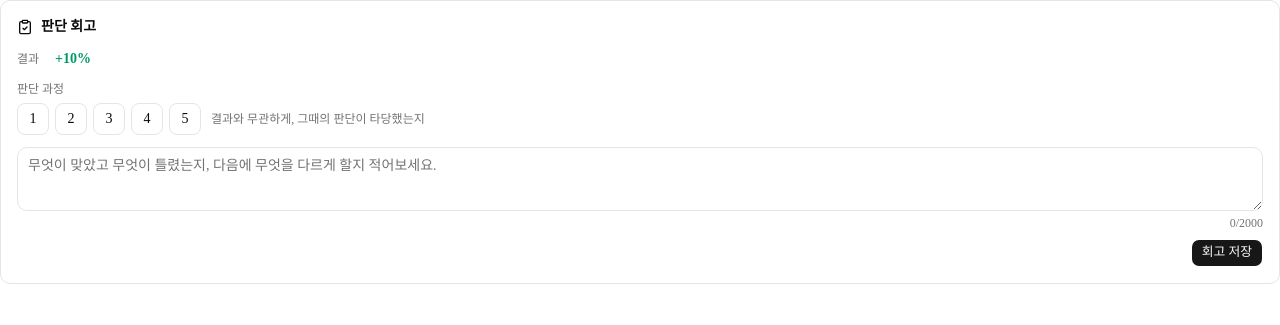
JournalReviewCard › 점수를 안 고르면 저장하지 않는다
Click the button "회고 저장": [1227, 253] box [1191, 239, 1263, 267]
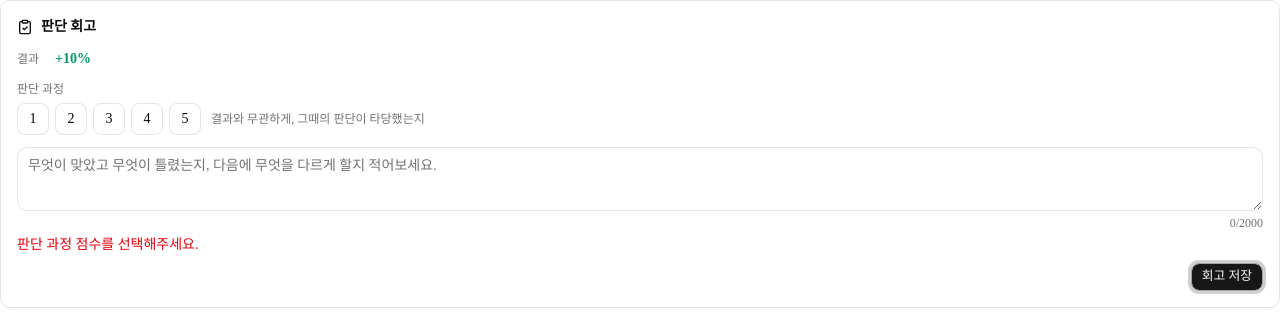
Now the text "판단 과정 점수를 선택해주세요." is shown, box [17, 237, 198, 252]
